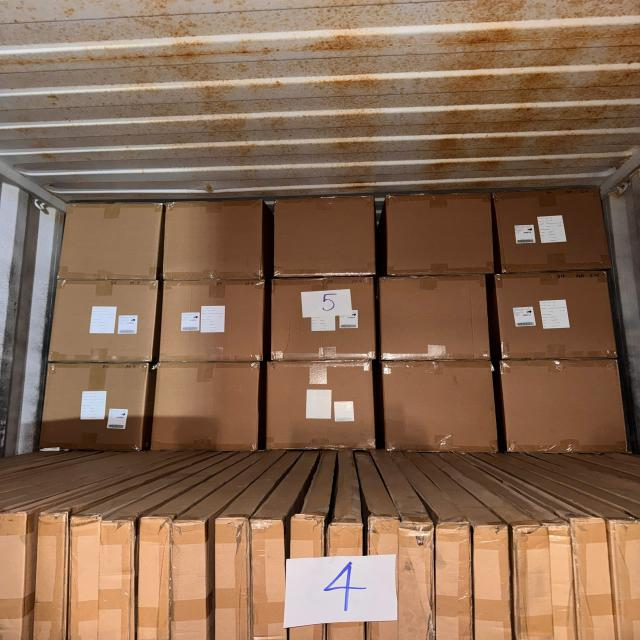Carton: (502, 356, 629, 453), (382, 357, 497, 452), (496, 276, 619, 364), (266, 358, 376, 450), (499, 191, 615, 277), (156, 359, 261, 451), (378, 273, 490, 359), (40, 360, 147, 450), (385, 194, 494, 281), (48, 282, 156, 366), (273, 276, 379, 360), (275, 196, 379, 280), (161, 280, 266, 363), (163, 197, 264, 281), (62, 202, 165, 282)
